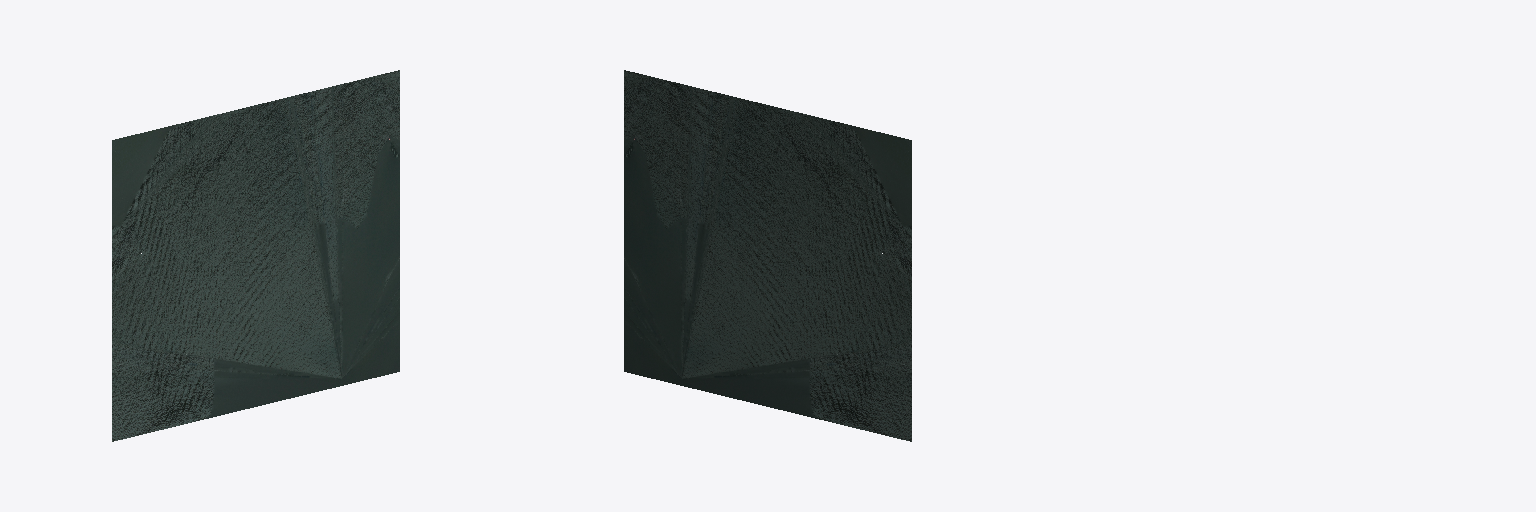
The picture shows the model from 3 angles: view 1: azimuth 30°, elevation 25°; view 2: azimuth 150°, elevation 25°; view 3: azimuth 270°, elevation 25°; orthographic projection.
Bounding box in the file's own units: 252 × 252 × 0.0675.
2 materials, 1 textured.